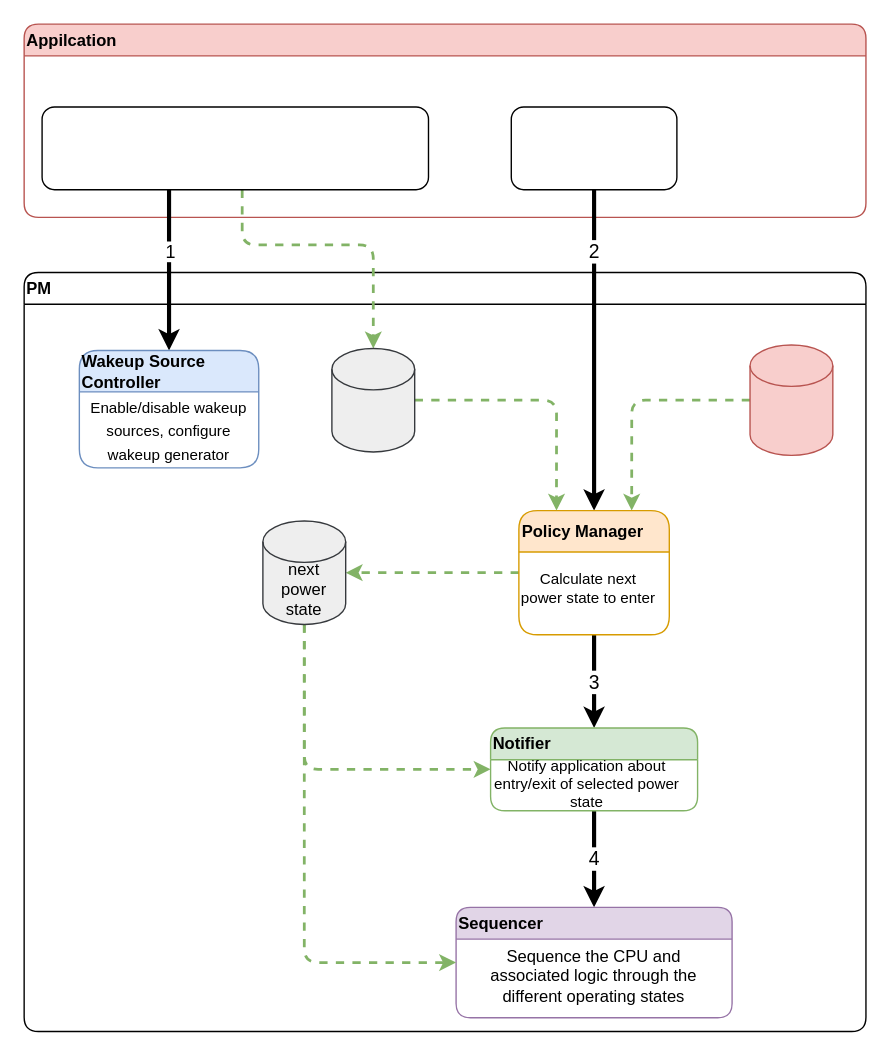
The diagram is 890 pixels wide and 1056 high, and some of its shapes have lost their labels. The centre of each missing label's shape, as x and y in pixels:
"Idle Thread" goes at (593,148).
"power states" goes at (791,399).
"system constraints" goes at (373,399).
"User Threads" goes at (234,148).
